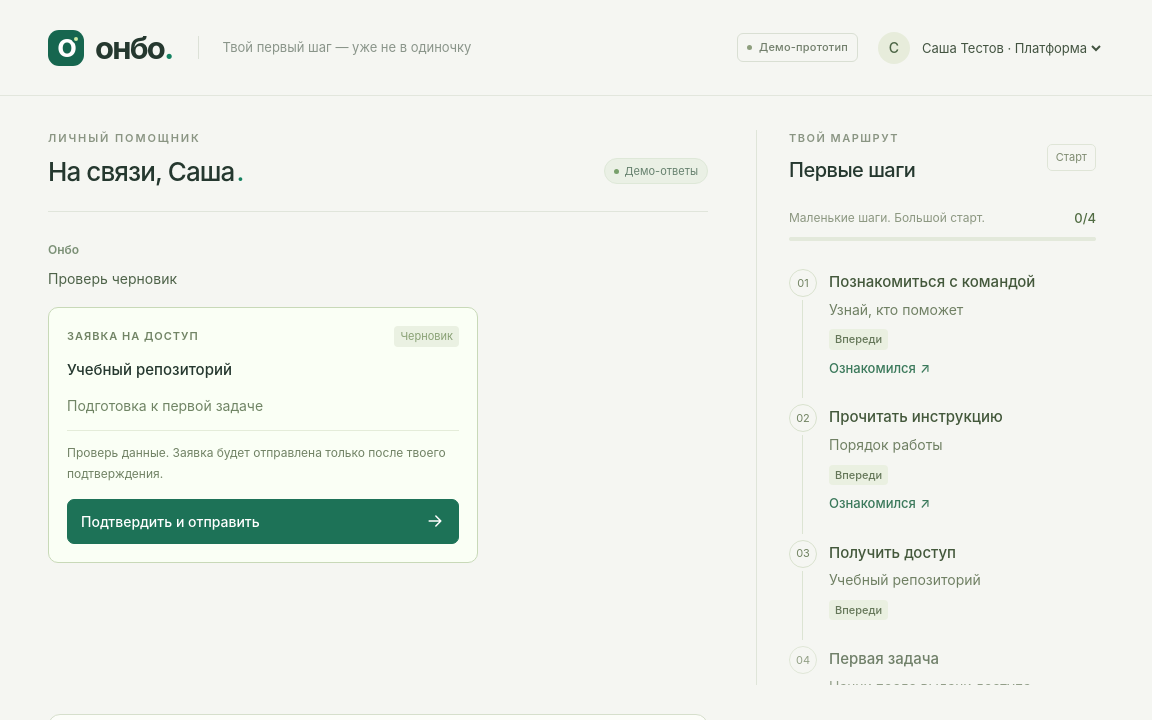
Test case: Onbo workspace › shows uncertain submission separately and restores the same operation
Expected: the heading "На связи, Саша." is shown, [48,154,243,188]
What coordinates should you click on to do the following:
click the button "Подтвердить и отправить"
I would click on:
 (170, 521)
Its box is [67,499,459,544].
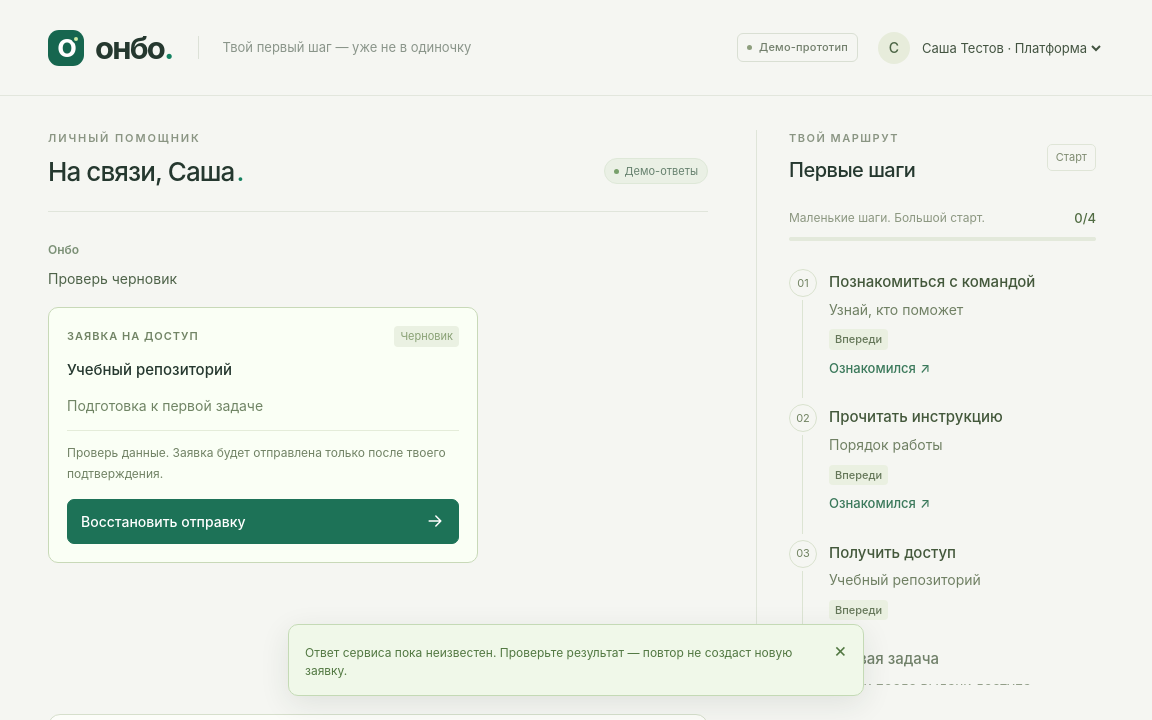
Expected: the text "Ответ сервиса пока неизвестен" is shown, [305,645,792,678]
What coordinates should you click on to do the following:
click the button "Восстановить отправку"
I would click on:
 (163, 521)
Its box is [67,499,459,544].
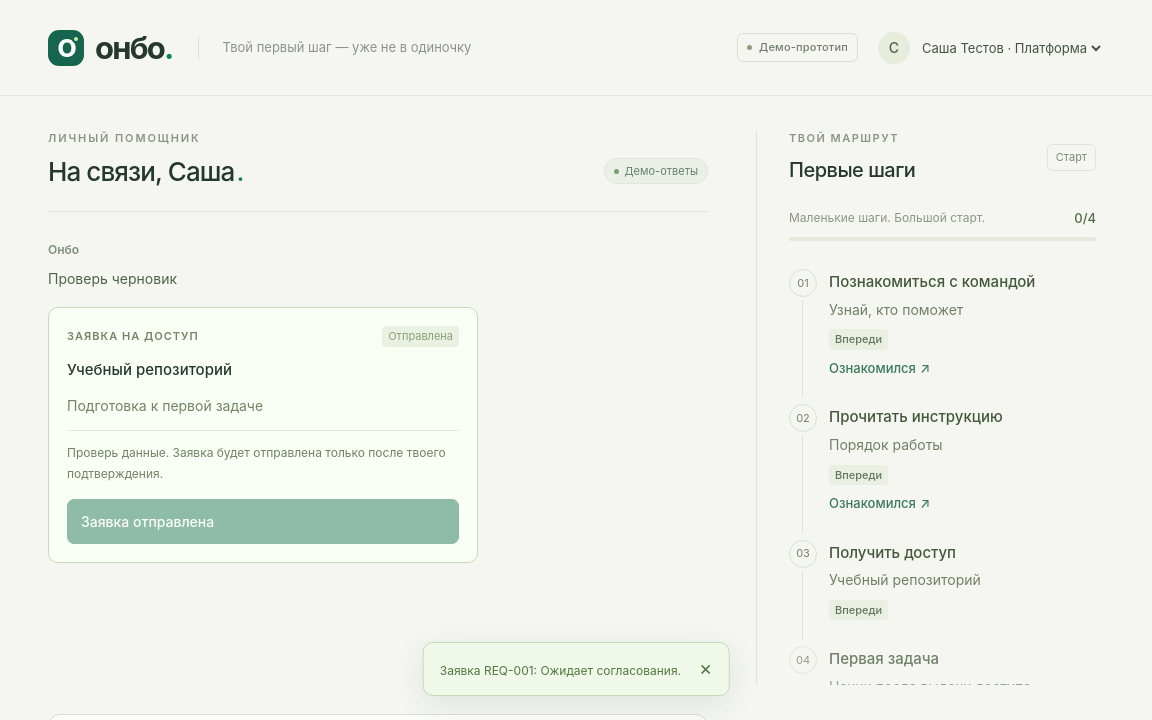
Expected: the button "Заявка отправлена" is shown, [67,499,459,544]
